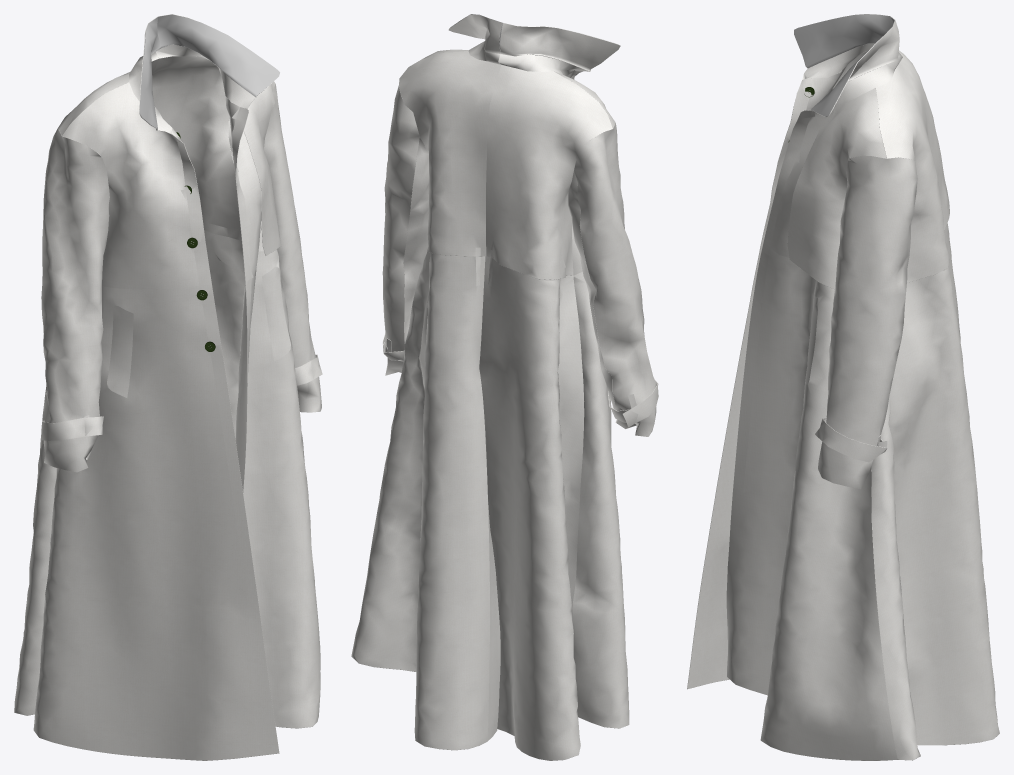
The picture shows the model from 3 angles, left to right: view 1: azimuth 30°, elevation 25°; view 2: azimuth 150°, elevation 25°; view 3: azimuth 270°, elevation 25°; orthographic projection.
Parts seen in each view (by area): view 1: Pattern2D_186845, Pattern2D_161825, Sleeves (×2), Pattern2D_152068, Collar (×2), Pattern2D_186846, Pattern2D_2084200, Collar_Stand (×2), Sleeves_Strap (×2), Pattern2D_2141753; view 2: Pattern2D_152068, Pattern2D_186846, Sleeves (×2), Pattern2D_2141753, Pattern2D_186845, Pattern2D_2141752, Collar (×2), Sleeves_Panel (×2), Collar_Stand, Sleeves_Strap; view 3: Pattern2D_161825, Pattern2D_152068, Sleeves, Pattern2D_2084200, Pattern2D_186845, Pattern2D_2141752, Collar (×3), Collar_Stand (×2), Pattern2D_2141753, Sleeves_Strap.
Boxes of the visible parts, x1=… form: Pattern2D_186845: x1=33, y1=82, x2=279, y2=760; Pattern2D_161825: x1=225, y1=96, x2=320, y2=728; Sleeves (×2): x1=41, y1=84, x2=321, y2=472; Pattern2D_152068: x1=152, y1=56, x2=245, y2=438; Collar (×2): x1=139, y1=14, x2=279, y2=129; Pattern2D_186846: x1=14, y1=58, x2=158, y2=715; Pattern2D_2084200: x1=243, y1=81, x2=281, y2=255; Collar_Stand (×2): x1=129, y1=44, x2=255, y2=134; Sleeves_Strap (×2): x1=41, y1=354, x2=322, y2=440; Pattern2D_2141753: x1=58, y1=71, x2=130, y2=135; Pattern2D_152068: x1=351, y1=141, x2=500, y2=750; Pattern2D_186846: x1=479, y1=157, x2=584, y2=760; Sleeves (×2): x1=382, y1=85, x2=656, y2=436; Pattern2D_2141753: x1=486, y1=65, x2=612, y2=279; Pattern2D_186845: x1=554, y1=70, x2=629, y2=728; Pattern2D_2141752: x1=399, y1=50, x2=500, y2=256; Collar (×2): x1=448, y1=14, x2=620, y2=71; Sleeves_Panel (×2): x1=403, y1=136, x2=636, y2=428; Collar_Stand: x1=498, y1=54, x2=589, y2=76; Sleeves_Strap: x1=608, y1=379, x2=658, y2=427; Pattern2D_161825: x1=726, y1=88, x2=897, y2=760; Pattern2D_152068: x1=871, y1=265, x2=999, y2=760; Sleeves: x1=818, y1=155, x2=917, y2=489; Pattern2D_2084200: x1=787, y1=93, x2=886, y2=289; Pattern2D_186845: x1=687, y1=50, x2=868, y2=689; Pattern2D_2141752: x1=875, y1=65, x2=949, y2=282; Collar (×3): x1=794, y1=14, x2=899, y2=116; Collar_Stand (×2): x1=802, y1=43, x2=902, y2=110; Pattern2D_2141753: x1=898, y1=50, x2=949, y2=230; Sleeves_Strap: x1=815, y1=417, x2=887, y2=462.
Size of the model in its own units: 59.95 by 146 by 58.61.
